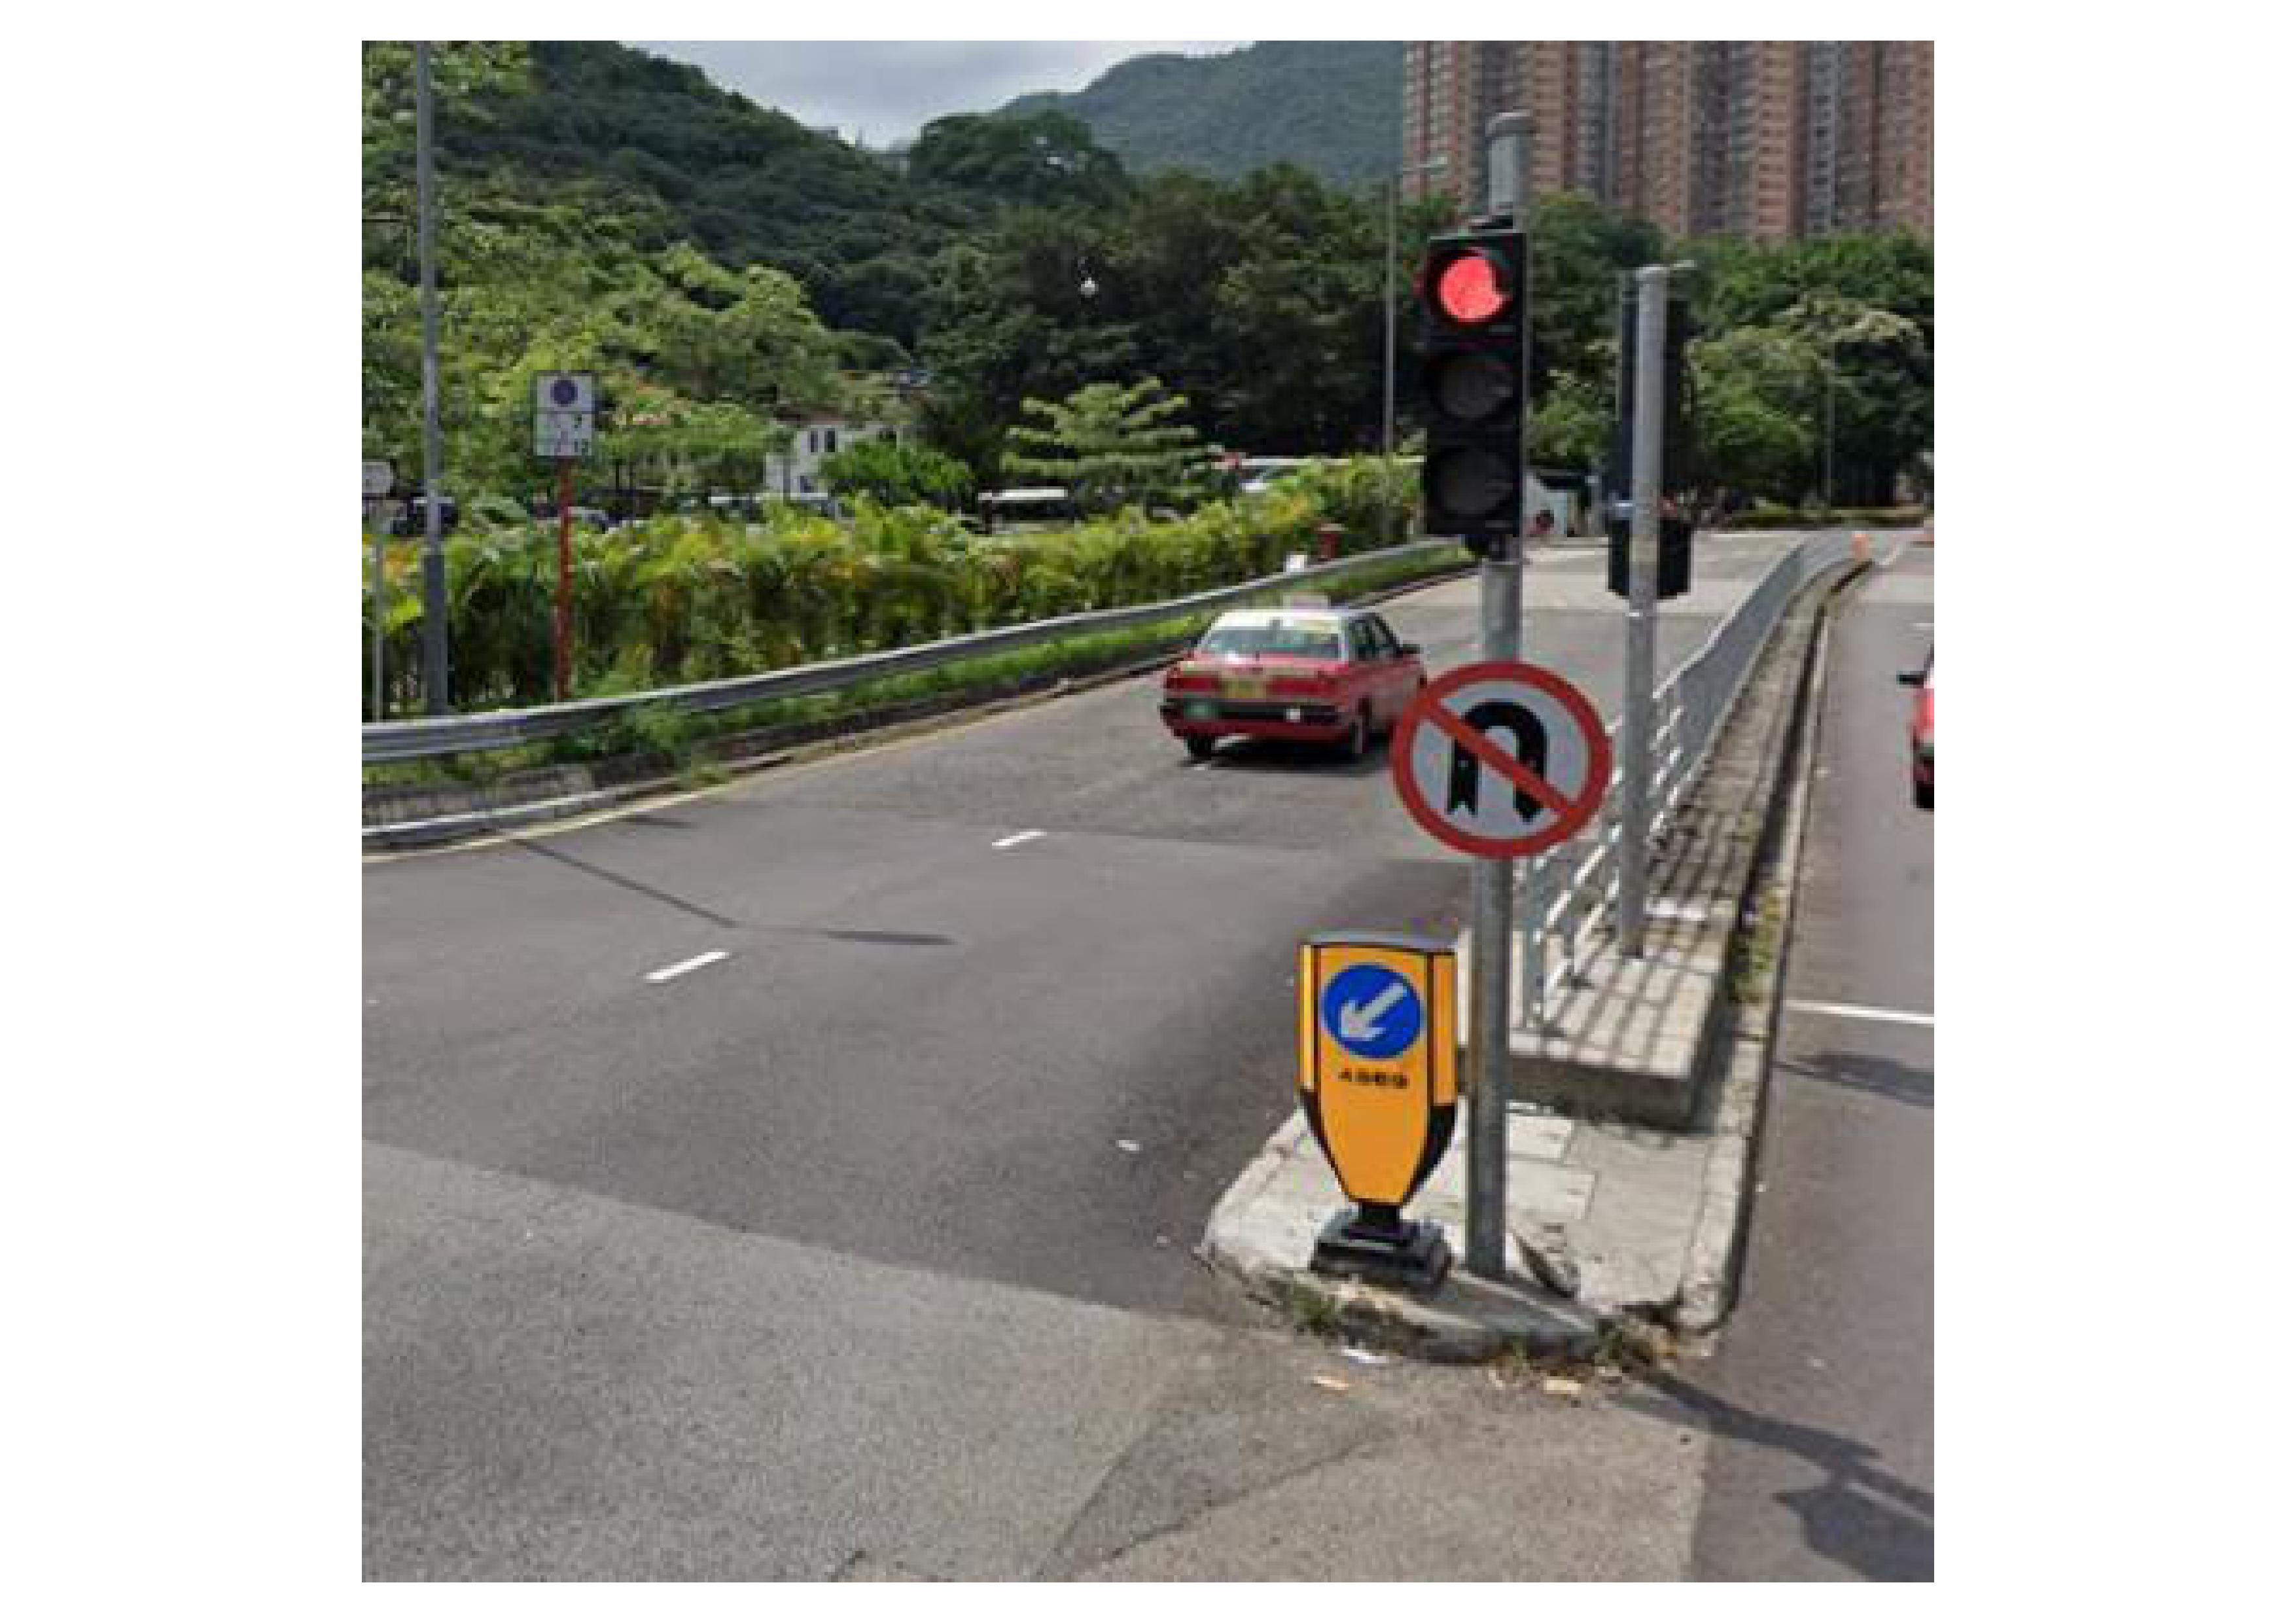No Uturn: (1371, 646, 1627, 869)
